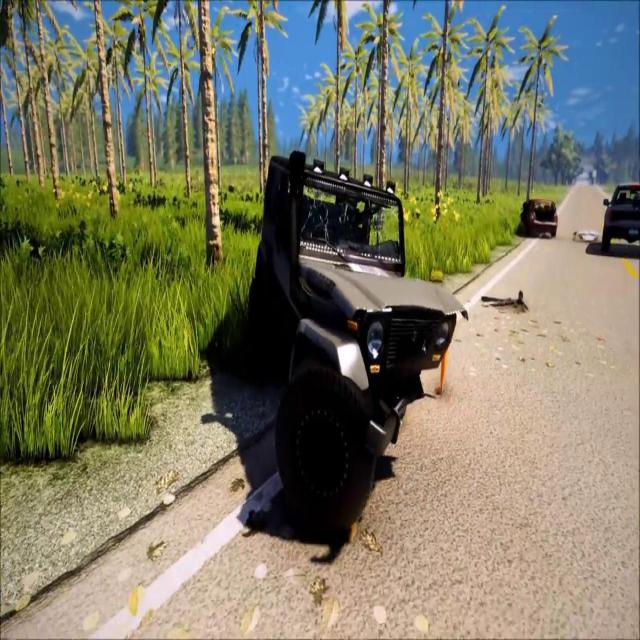severe: (251, 148, 463, 560)
